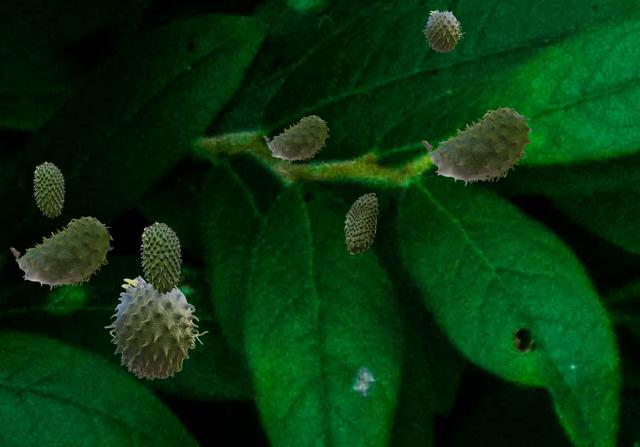guyabano: (104, 275, 207, 379), (422, 107, 531, 185), (10, 216, 112, 289), (263, 115, 328, 162), (140, 221, 181, 294), (344, 193, 377, 253), (422, 9, 464, 51), (33, 161, 64, 217)
